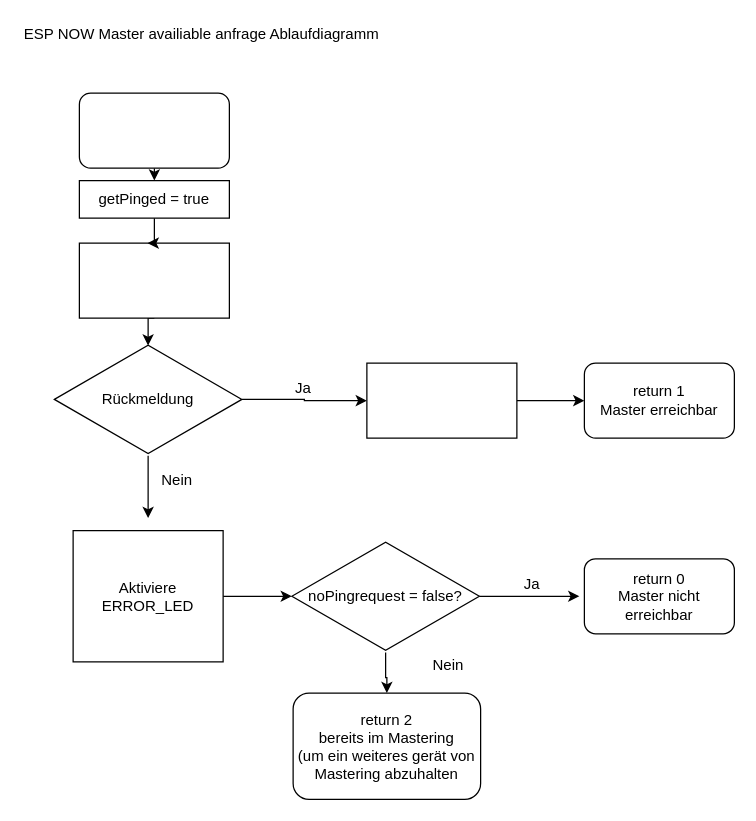
This 756x821 diagram has some shape labels left out. Here are the shapes that lost their labels. From the top down, the centre of each, then its label:
At point 153,130: "Start".
At point 153,280: "Ping an Master".
At point 441,400: "Deaktiviere Error_LED wenn nötig".
